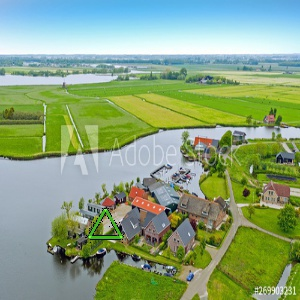triangle: (86, 204, 125, 242)
